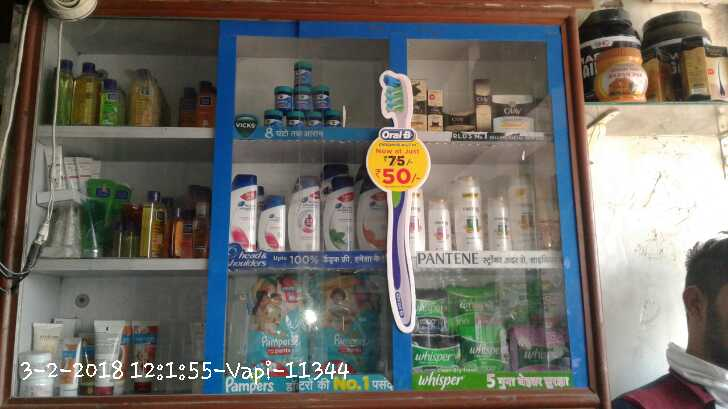beauty: (455, 174, 489, 252), (325, 163, 355, 251), (228, 170, 259, 252), (290, 177, 321, 250), (516, 176, 542, 251), (490, 92, 537, 132), (426, 198, 457, 253), (257, 186, 285, 246), (488, 192, 512, 250), (424, 84, 446, 135), (474, 77, 494, 131), (443, 107, 480, 127)
pharmacy: (309, 270, 384, 375), (237, 275, 308, 376), (507, 330, 569, 372), (496, 282, 561, 320), (445, 283, 497, 327), (460, 329, 506, 372), (264, 107, 348, 128), (413, 336, 464, 370), (411, 289, 448, 333), (288, 53, 310, 85), (314, 82, 334, 111), (272, 81, 291, 108), (293, 85, 310, 110)
